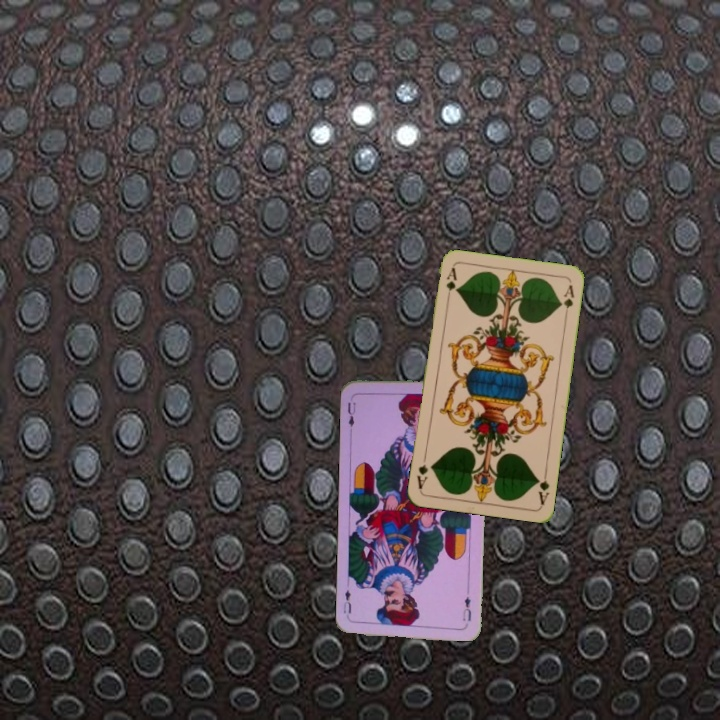EU: (344, 393, 358, 434), (459, 593, 474, 623)
GA: (533, 466, 552, 507), (442, 264, 459, 304)
